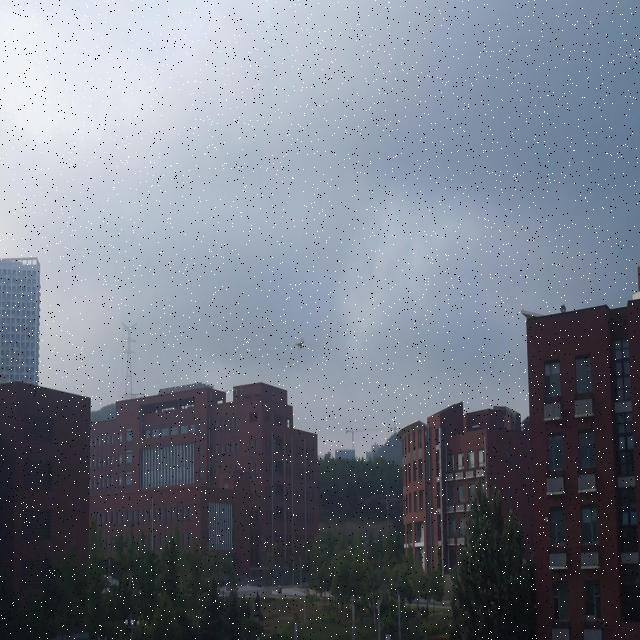UAV: (293, 337, 305, 351)
